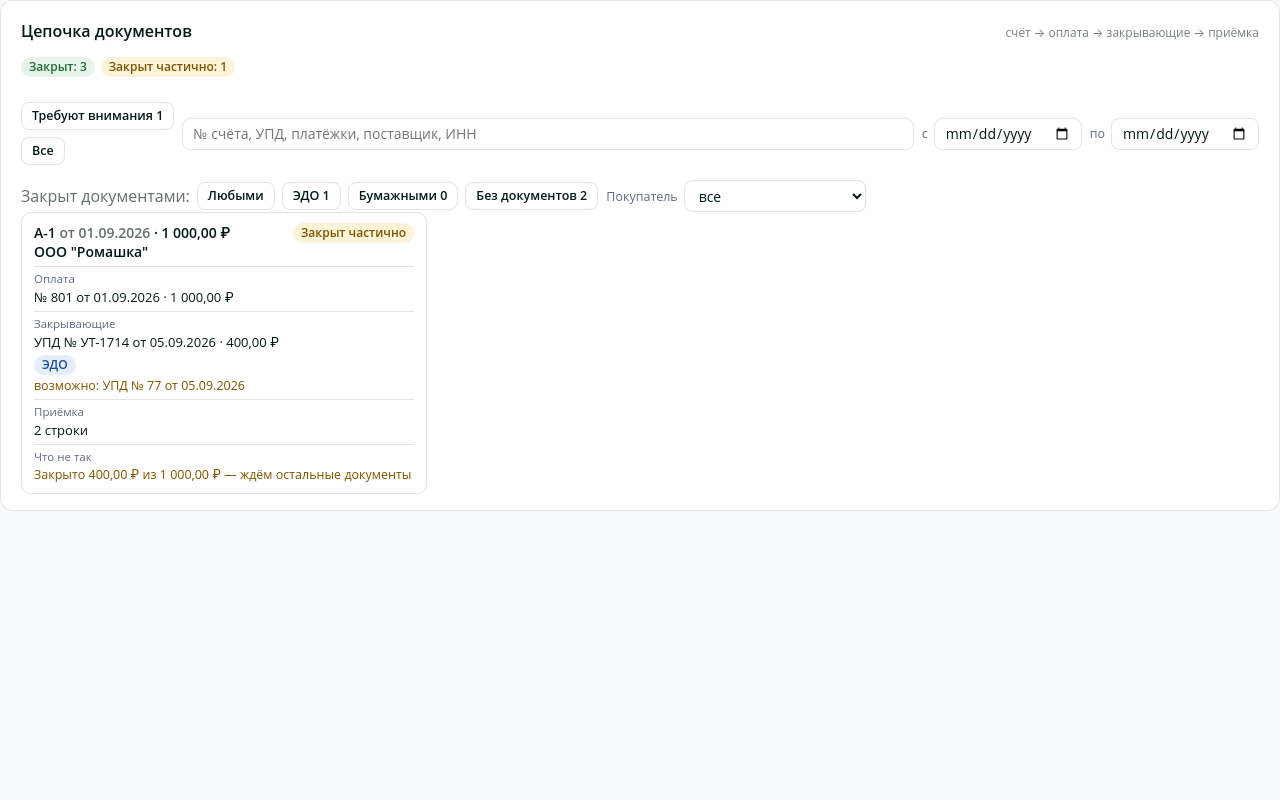
it: read-only: no «Связать»
Click the text "Закрыт частично" at (354, 233), box [293,223,414,243]
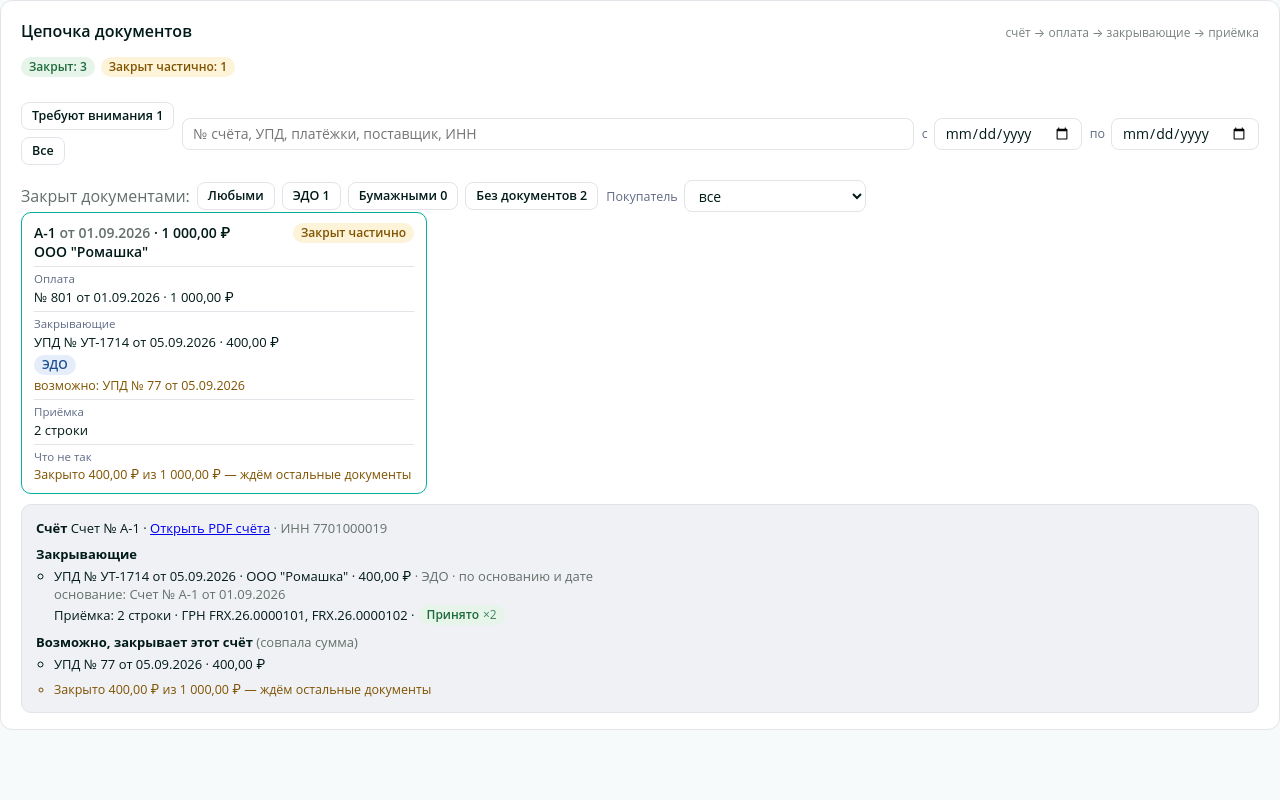
Expected: the text "Возможно, закрывает этот счёт" is shown, [36,633,253,651]
